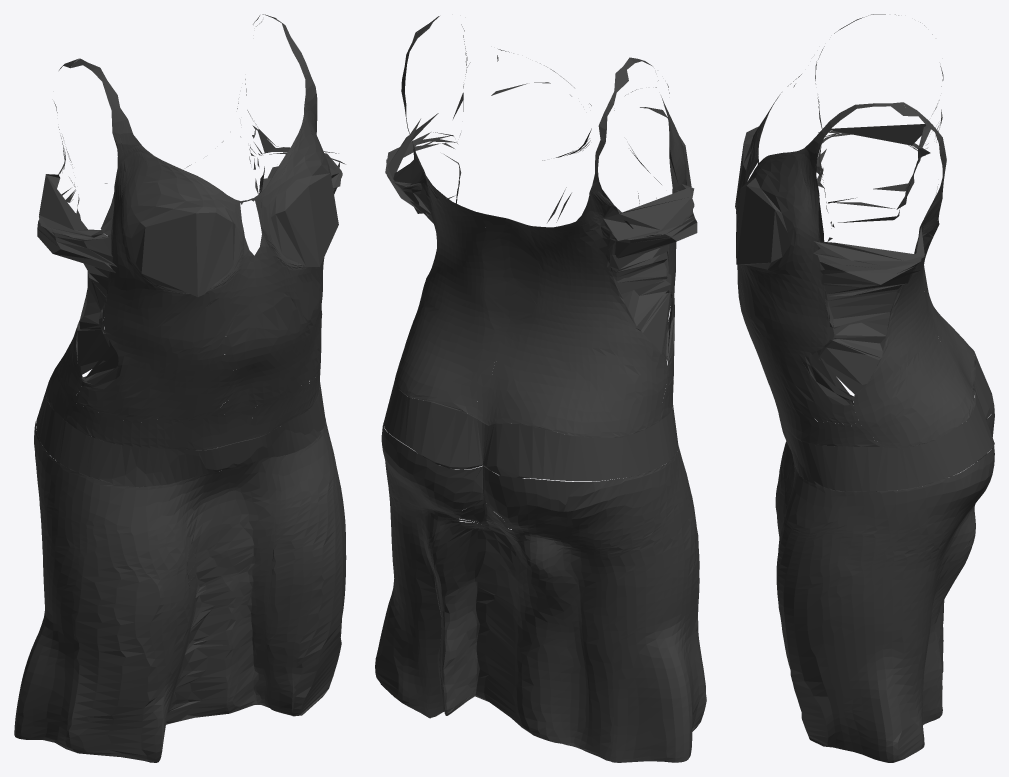
File: cc_keyhole.glb
3 views of the same model, side by side, from view 1: azimuth 30°, elevation 25°; view 2: azimuth 150°, elevation 25°; view 3: azimuth 270°, elevation 25° (orthographic). The views are drawn at different scales.
Parts seen in each view (by area): view 1: geometry_0; view 2: geometry_0; view 3: geometry_0.
Boxes of the visible parts, left/top/right/bottom form: geometry_0: left=14, top=14, right=346, bottom=762; geometry_0: left=375, top=16, right=706, bottom=762; geometry_0: left=735, top=14, right=994, bottom=762.
Size of the model in its own units: 0.2706 by 0.5608 by 0.2035.
Materials: 1 (1 with a texture image).
